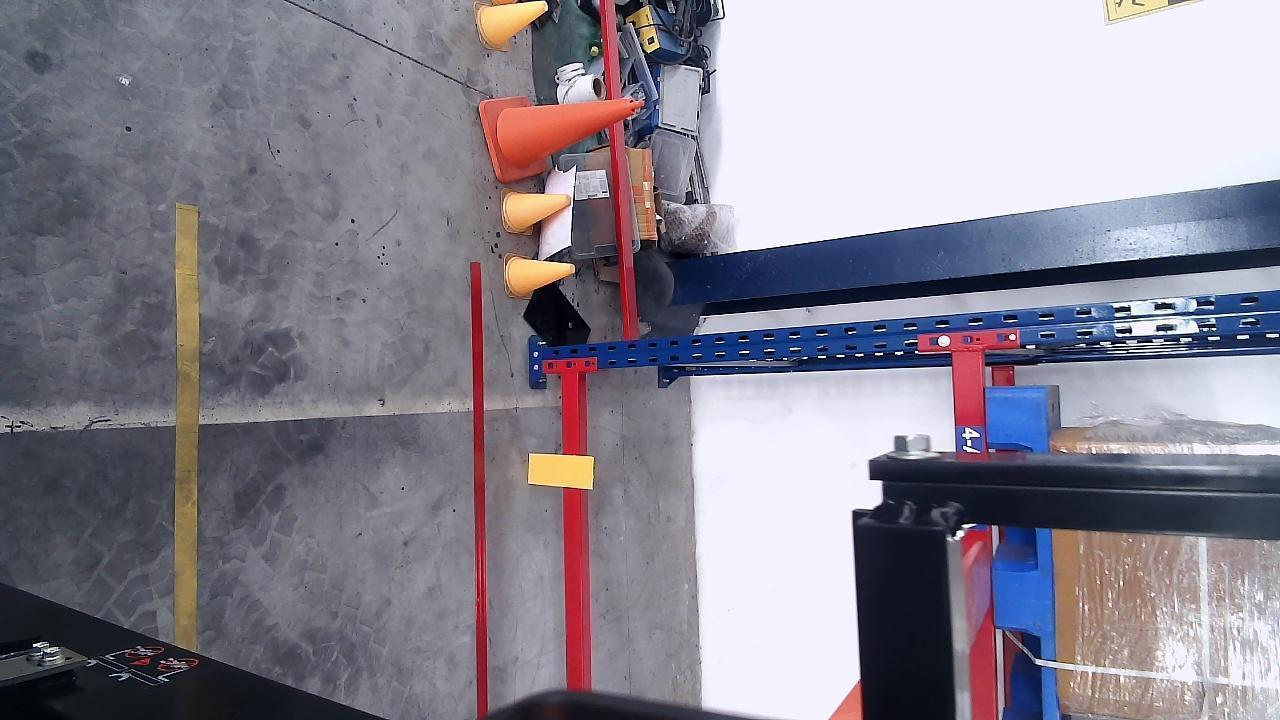red_line: (470, 261, 487, 716)
yellow_line: (175, 204, 199, 653)
